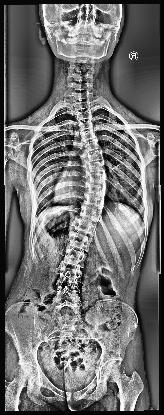Vertebrae: (68, 232, 94, 254), (62, 250, 88, 270), (57, 269, 83, 289), (52, 289, 82, 305), (74, 220, 98, 238), (80, 207, 102, 223), (85, 194, 104, 211), (84, 138, 101, 154), (88, 184, 108, 196), (89, 160, 106, 174), (87, 151, 104, 164), (80, 130, 97, 142), (89, 172, 106, 184), (80, 119, 95, 132), (76, 110, 92, 122), (73, 102, 91, 110)
